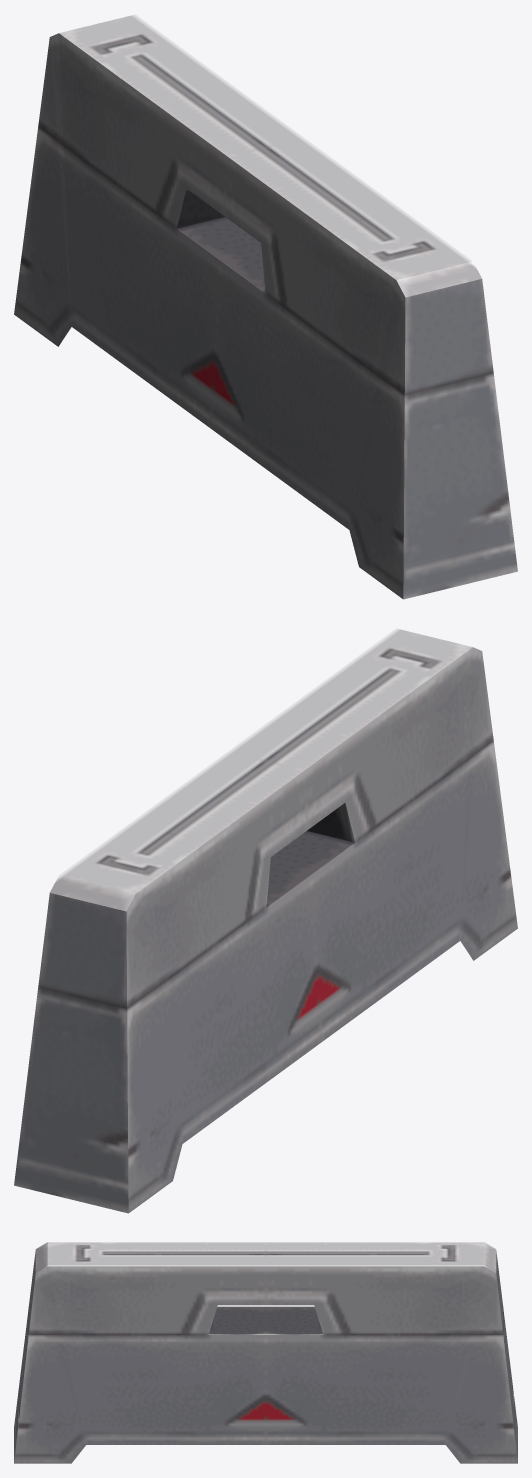
File: hbxz_road005_04.FBX
3 views of the same model, one above another, from view 1: azimuth 30°, elevation 25°; view 2: azimuth 150°, elevation 25°; view 3: azimuth 270°, elevation 25° (orthographic). The views are drawn at different scales.
Parts seen in each view (by area): view 1: hbxz_road005_04; view 2: hbxz_road005_04; view 3: hbxz_road005_04.
Boxes of the visible parts, x1,y1,x2,y2 form: hbxz_road005_04: (14, 14, 517, 599); hbxz_road005_04: (14, 628, 517, 1213); hbxz_road005_04: (14, 1242, 517, 1463).
Bounding box in the file's own units: 25.36 × 62.55 × 149.
Materials: 1 (1 with a texture image).
